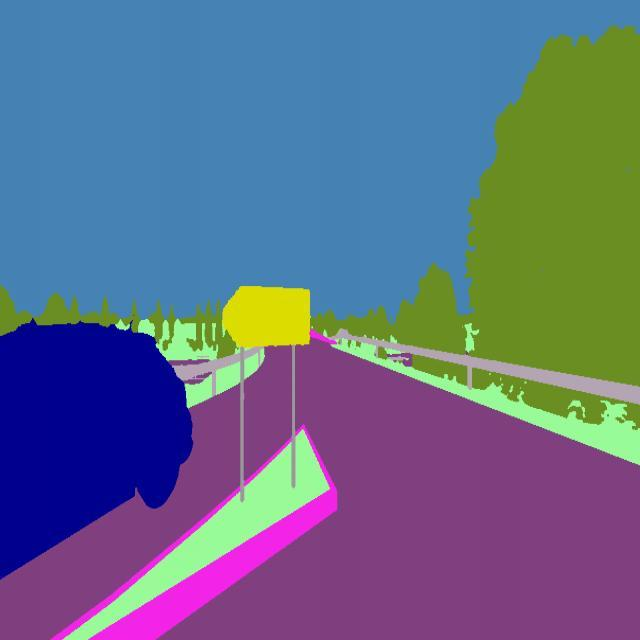safe: (0, 306, 198, 590)
